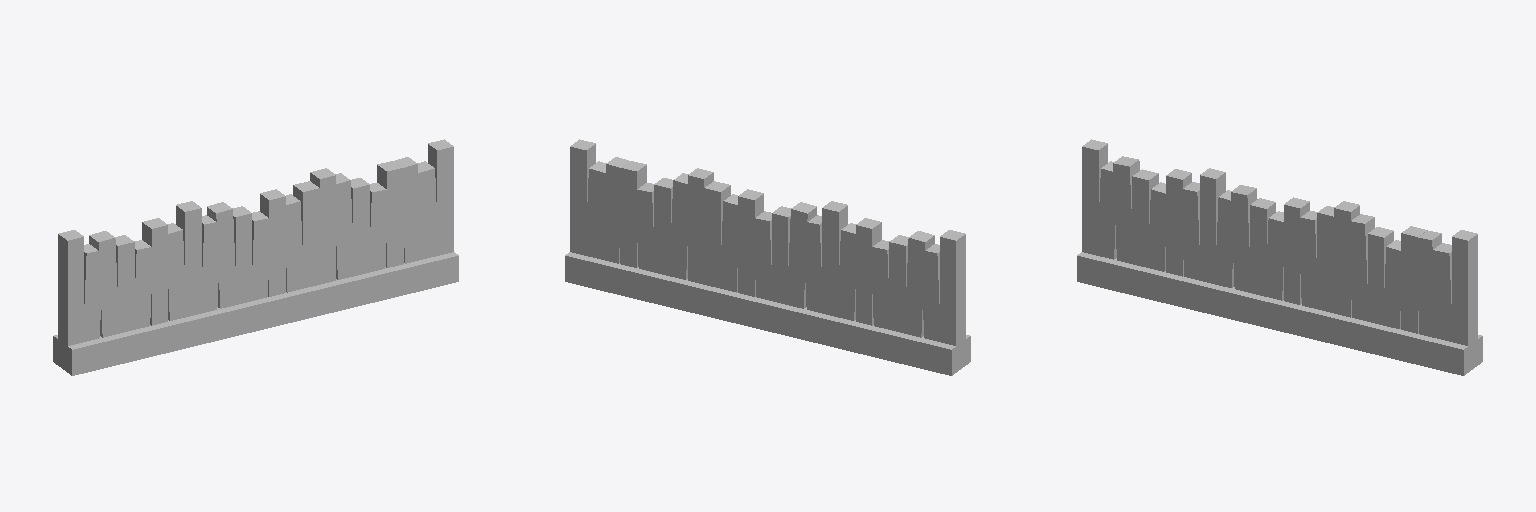
The model's file is voxel_fence.obj.
The picture shows the model from 3 angles: view 1: azimuth 30°, elevation 25°; view 2: azimuth 150°, elevation 25°; view 3: azimuth 330°, elevation 25°; orthographic projection.
Visible parts, largest first — view 1: Object_57, Object_25, Object_21, Object_59, Object_19, Object_29, Object_5, Object_53, Object_15, Object_39, Object_9, Object_49 (+15 smaller); view 2: Object_57, Object_25, Object_21, Object_59, Object_19, Object_29, Object_9, Object_5, Object_39, Object_15, Object_53, Object_49 (+14 smaller); view 3: Object_57, Object_25, Object_21, Object_29, Object_59, Object_19, Object_27, Object_53, Object_49, Object_15, Object_35, Object_39 (+15 smaller).
Part boxes in pixels (x1,y1,x2,y2): Object_57: (53,317,206,375); Object_25: (321,252,458,313); Object_21: (186,285,324,346); Object_59: (58,230,83,363); Object_19: (176,201,201,317); Object_29: (428,139,453,255); Object_5: (293,181,319,288); Object_53: (142,218,167,325); Object_15: (207,202,236,308); Object_39: (377,161,403,267); Object_9: (260,189,285,296); Object_49: (89,231,118,337); Object_57: (817,315,970,375); Object_25: (565,252,700,313); Object_21: (699,285,837,342); Object_59: (940,230,965,362); Object_19: (822,201,847,317); Object_29: (570,139,595,255); Object_9: (738,189,763,296); Object_5: (704,181,730,288); Object_39: (620,161,646,267); Object_15: (787,202,816,308); Object_53: (856,218,881,325); Object_49: (906,231,934,337); Object_57: (1077,252,1212,313); Object_25: (1329,317,1482,375); Object_21: (1196,281,1328,342); Object_29: (1452,230,1477,362); Object_59: (1082,139,1107,255); Object_19: (1200,168,1225,284); Object_27: (1334,201,1359,317); Object_53: (1166,169,1191,276); Object_49: (1113,156,1139,264); Object_15: (1231,185,1257,292); Object_35: (1351,214,1374,321); Object_39: (1401,226,1427,333).
Size of the model in its own units: 2.88 by 0.9375 by 0.25.